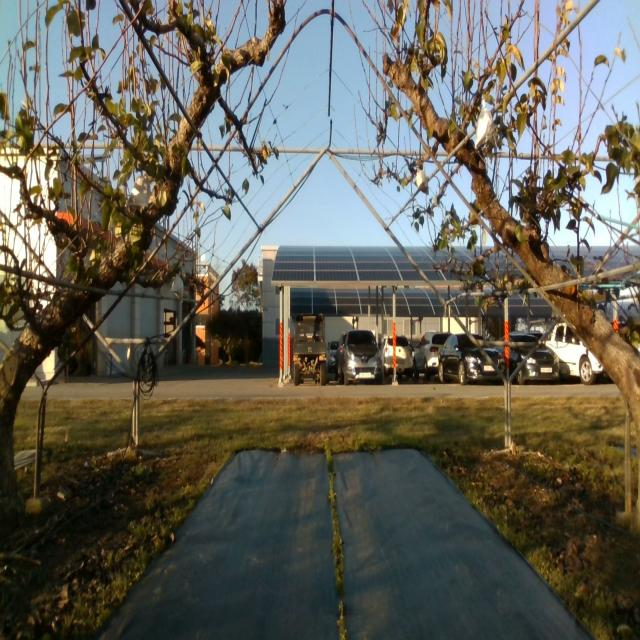pearbags: (473, 99, 498, 150), (125, 176, 151, 207), (170, 274, 183, 304), (416, 168, 428, 195)
